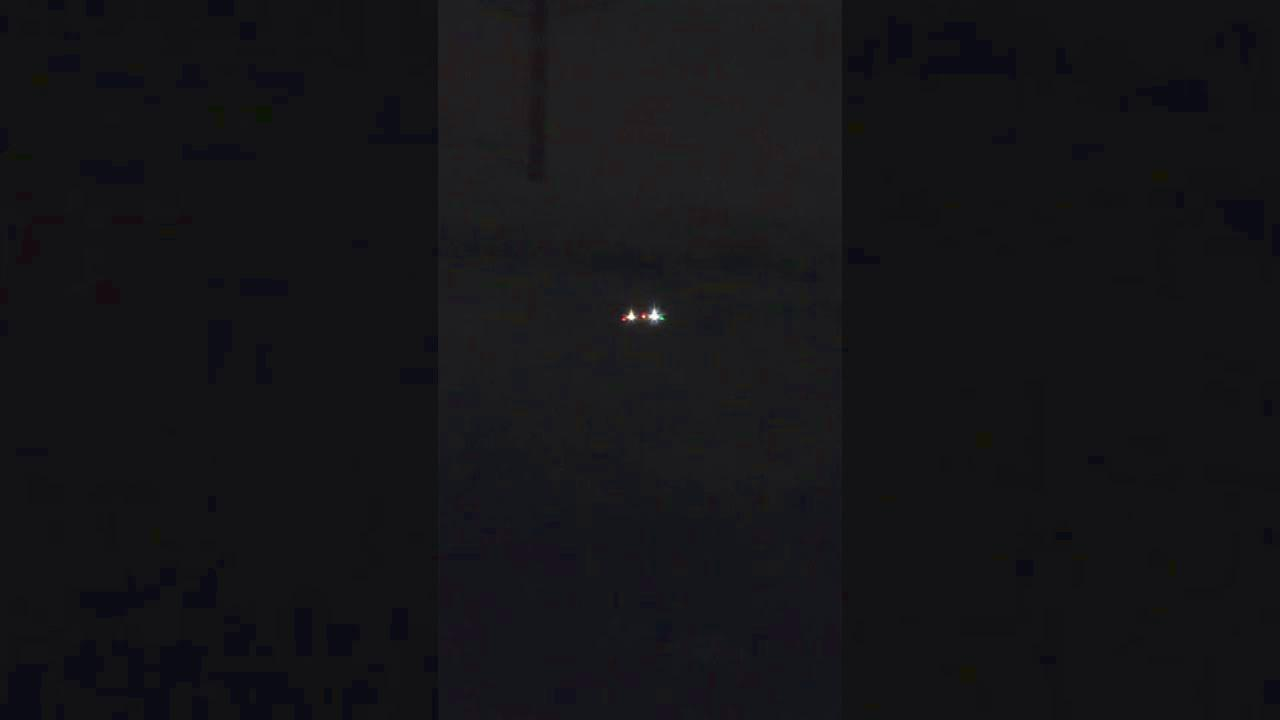Plane: (584, 290, 701, 344)
